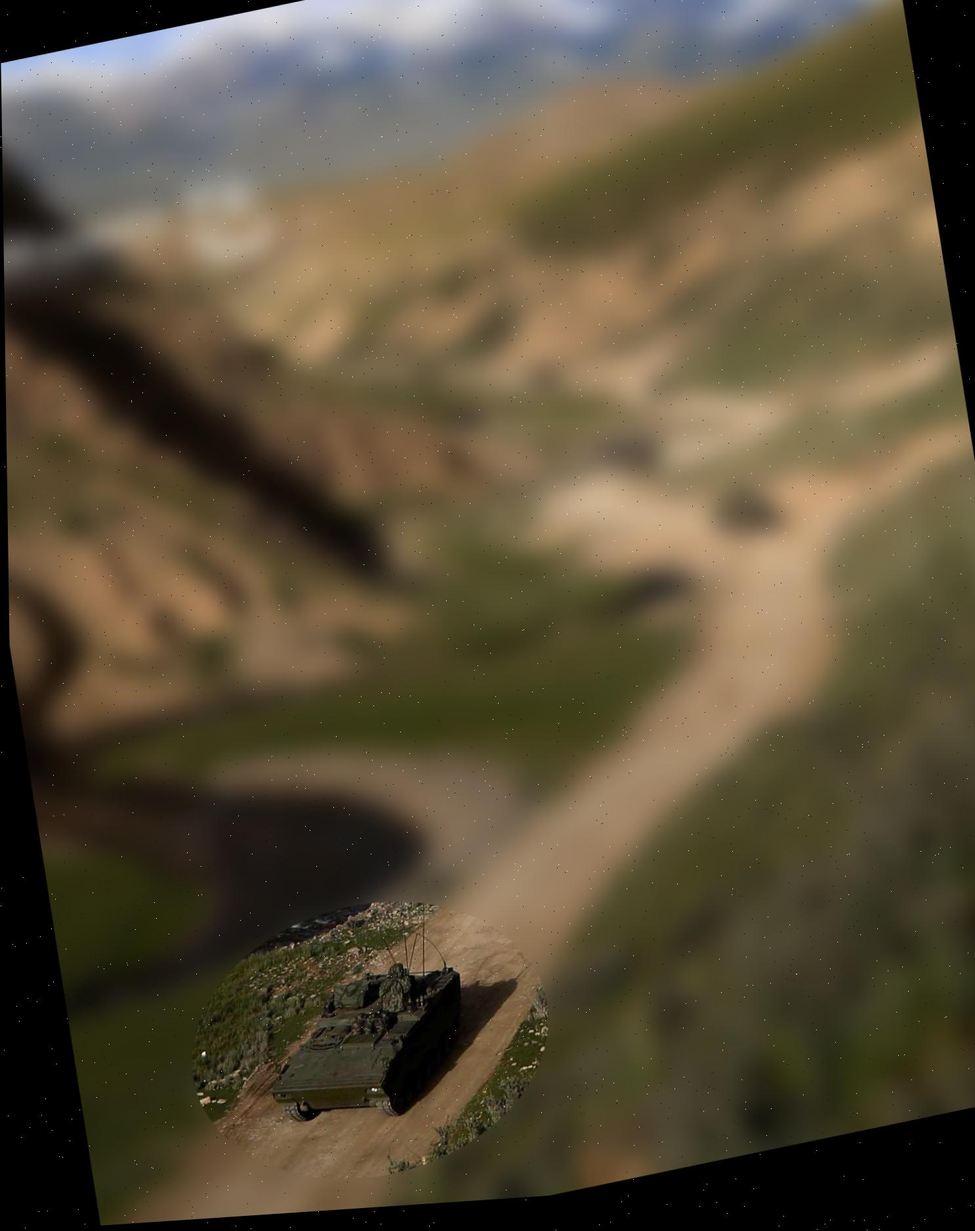armored_car: (255, 938, 491, 1144)
